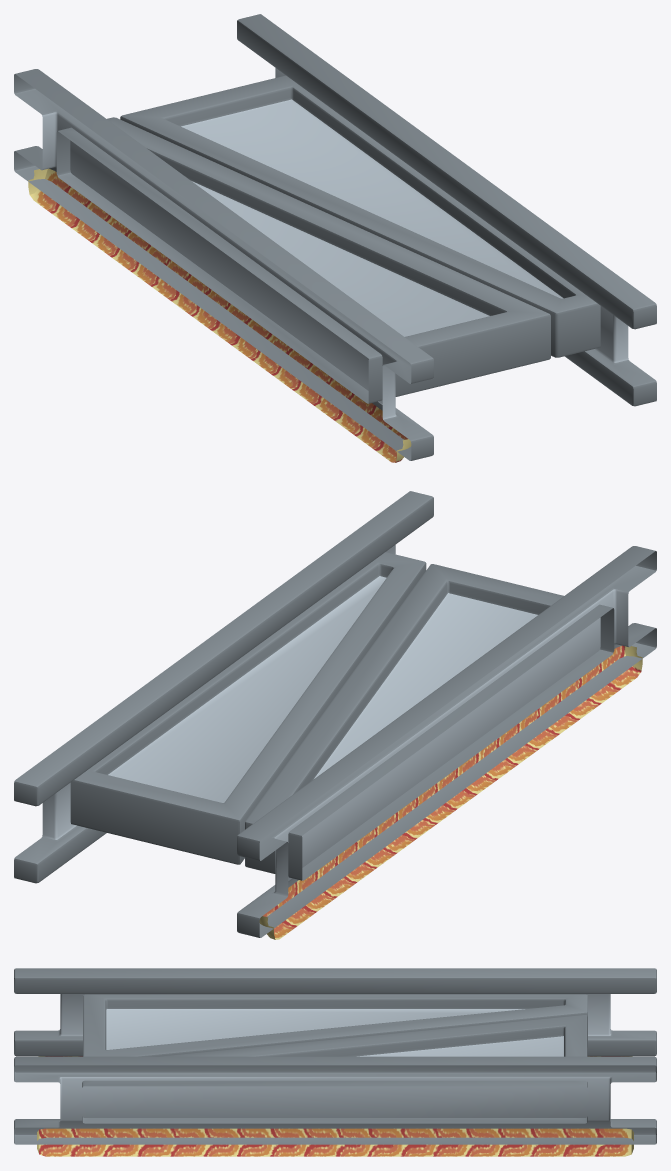
Rendered from SM_TrapDoor_50x100.fbx.
3 views of the same model, one above another, from view 1: azimuth 30°, elevation 25°; view 2: azimuth 150°, elevation 25°; view 3: azimuth 270°, elevation 25° (orthographic). The views are drawn at different scales.
Visible parts, largest first — view 1: SM_TrapDoor_50x100; view 2: SM_TrapDoor_50x100; view 3: SM_TrapDoor_50x100.
Part boxes in pixels (left/top/right/bottom): SM_TrapDoor_50x100: left=14, top=14, right=656, bottom=462; SM_TrapDoor_50x100: left=14, top=491, right=656, bottom=939; SM_TrapDoor_50x100: left=14, top=968, right=656, bottom=1156.
Size of the model in its own units: 100 by 280 by 43.93.
Materials: 1 (1 with a texture image).
